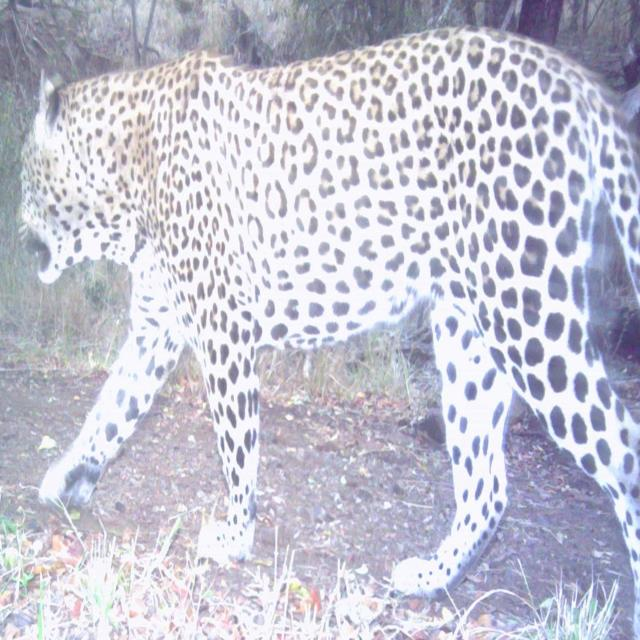Leopard: (0, 0, 639, 605)
